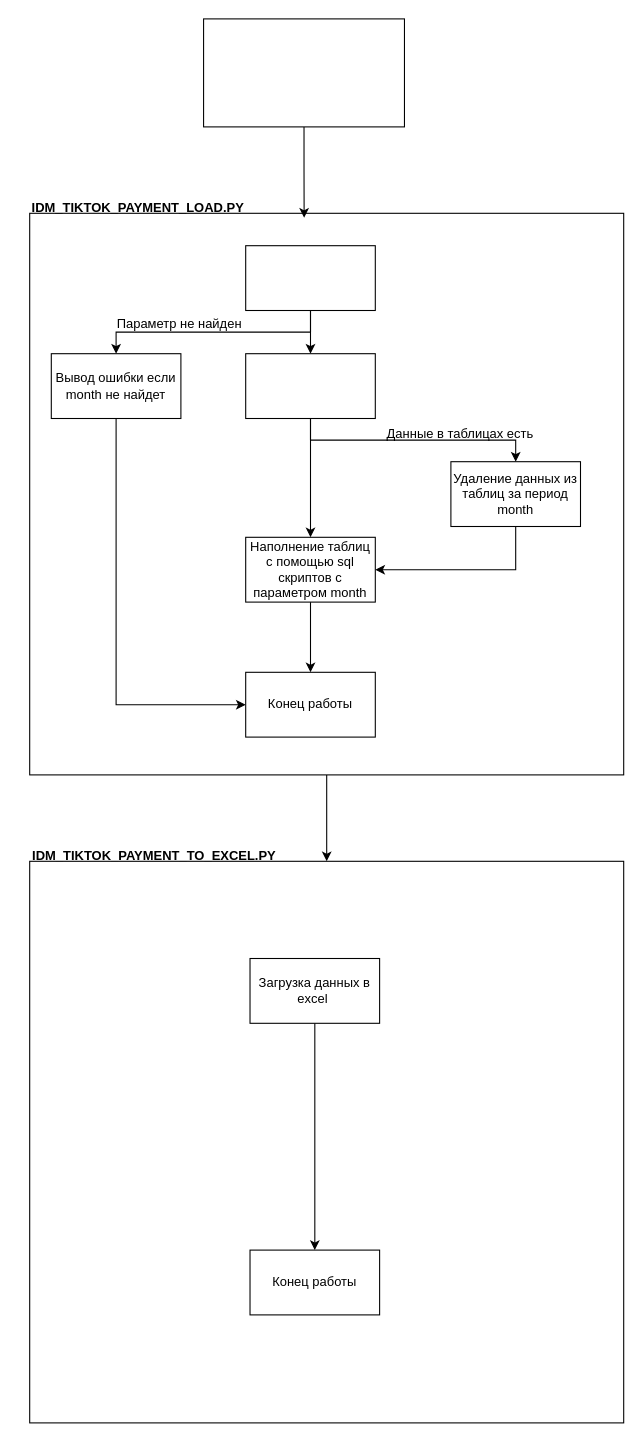
Image size: 643x1442. Some labels were removed from this diagram. Each missing label, with the centre of its shape:
"Запуск IDM_TIKTOK_PAYMENT_FULL" belongs at (x=303, y=72).
"Проверка на наличие данных в таблицах с параметром month" belongs at (x=310, y=385).
"Проверка параметра month" belongs at (x=310, y=277).
